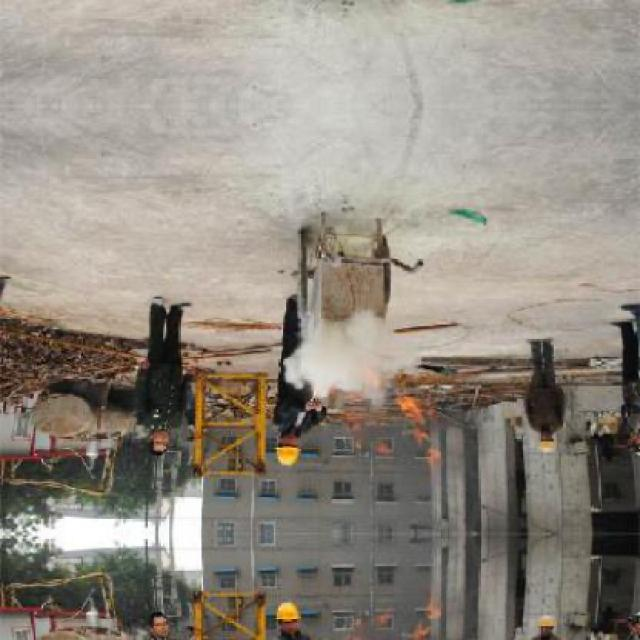con casco: (262, 432, 309, 466)
sin casco: (129, 437, 162, 468)
